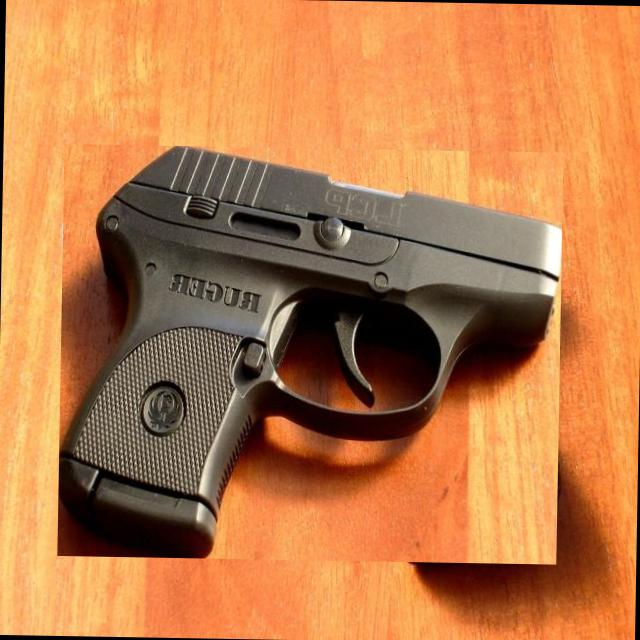Gun: (58, 146, 561, 558)
